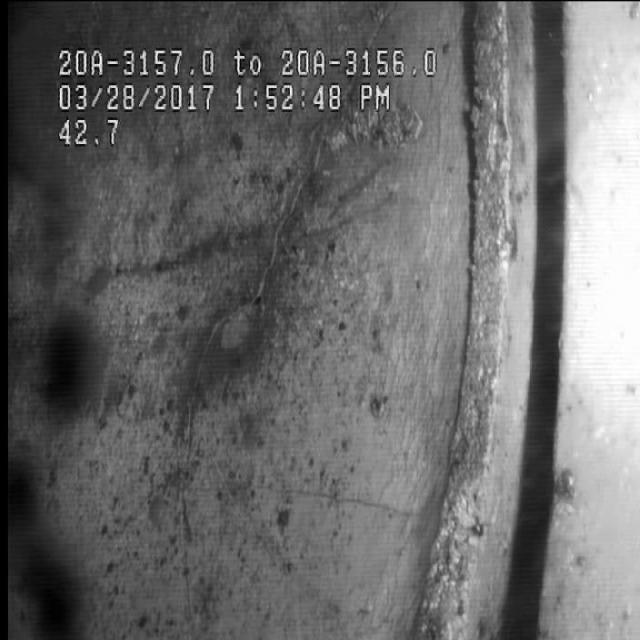Crack: (168, 114, 342, 558)
